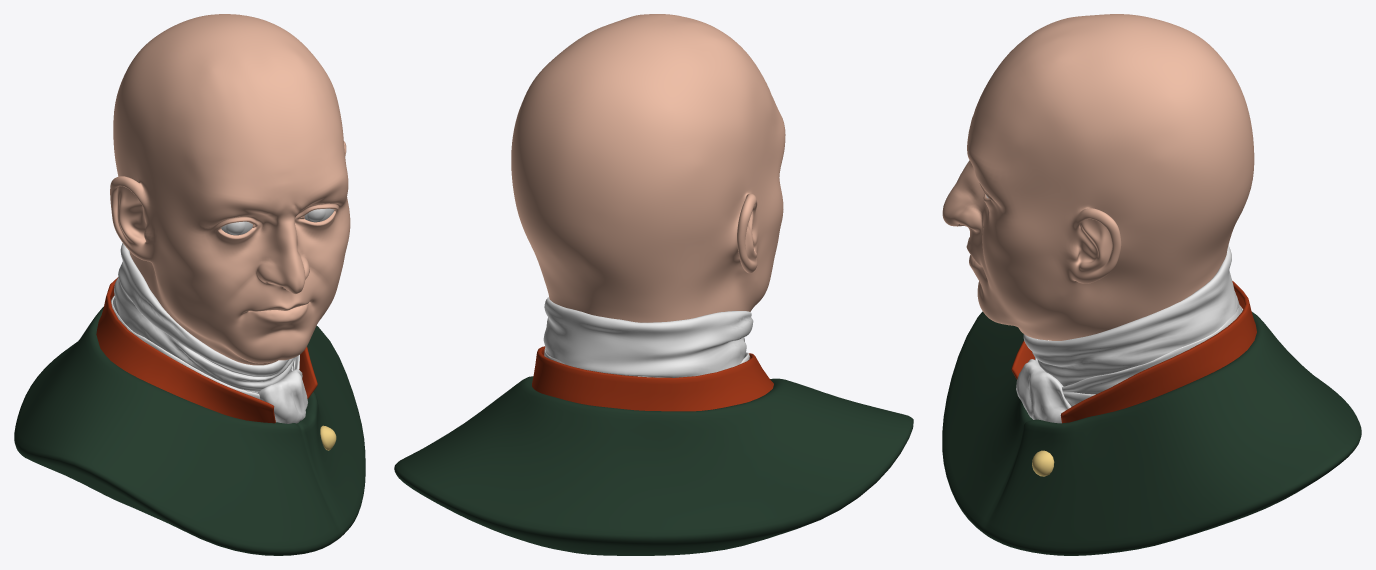
File: cabeza.glb
3 renders of one model, left to right at view 1: azimuth 30°, elevation 25°; view 2: azimuth 150°, elevation 25°; view 3: azimuth 270°, elevation 25°, orthographic. The views are drawn at different scales.
Visible parts, largest first — view 1: PeterHead, Green_Jacket, White_Scarf, Red_Collar; view 2: PeterHead, Green_Jacket, White_Scarf, Red_Collar; view 3: PeterHead, Green_Jacket, White_Scarf, Red_Collar.
Part boxes in pixels (x1,y1,x2,y2): PeterHead: (110,14,350,365); Green_Jacket: (14,306,365,555); White_Scarf: (111,243,307,423); Red_Collar: (96,277,317,423); PeterHead: (511,14,785,322); Green_Jacket: (394,376,913,555); White_Scarf: (543,297,753,377); Red_Collar: (532,346,773,411); PeterHead: (942,14,1254,340); Green_Jacket: (942,311,1361,555); White_Scarf: (1016,245,1242,423); Red_Collar: (1011,281,1256,423).
Size of the model in its own units: 0.2882 by 0.3537 by 0.2743.
